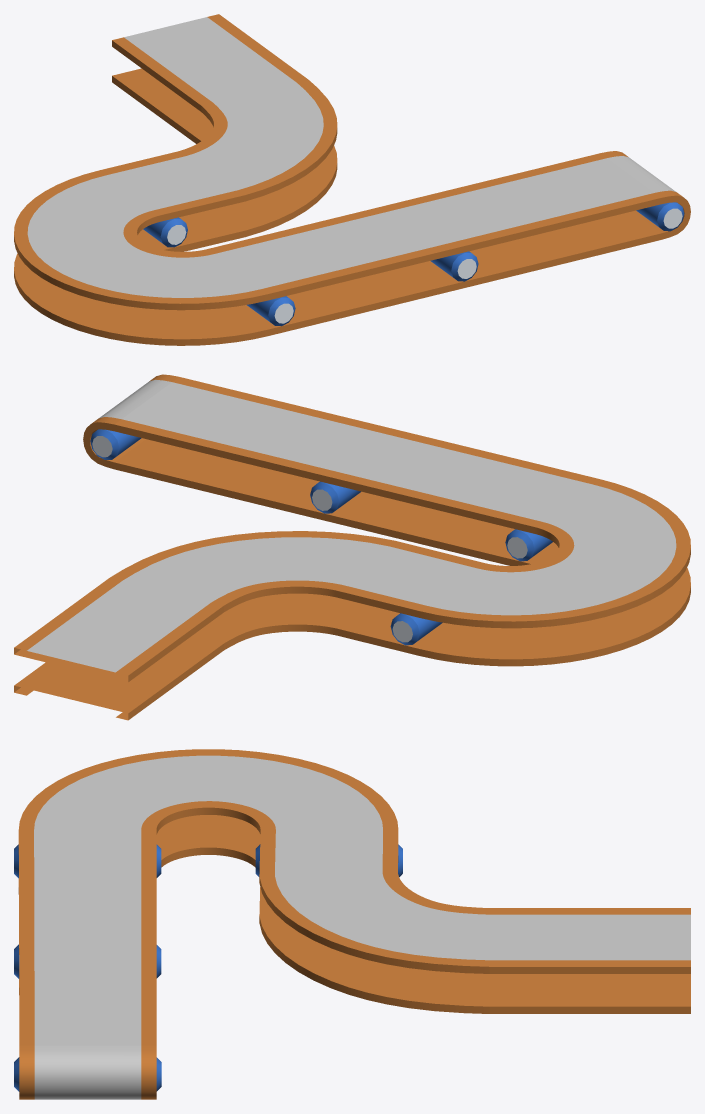
File: Conveyder_Belt.fbx
The picture shows the model from 3 angles, top to bottom: view 1: azimuth 30°, elevation 25°; view 2: azimuth 150°, elevation 25°; view 3: azimuth 270°, elevation 25°; orthographic projection. The views are drawn at different scales.
Visible parts, largest first — view 1: Conveyder_Belt; view 2: Conveyder_Belt; view 3: Conveyder_Belt.
Part boxes in pixels (x1,y1,x2,y2): Conveyder_Belt: (14,14,690,345); Conveyder_Belt: (14,374,690,720); Conveyder_Belt: (14,749,690,1099).
Bounding box in the file's own units: 1902 × 134 × 1742.
